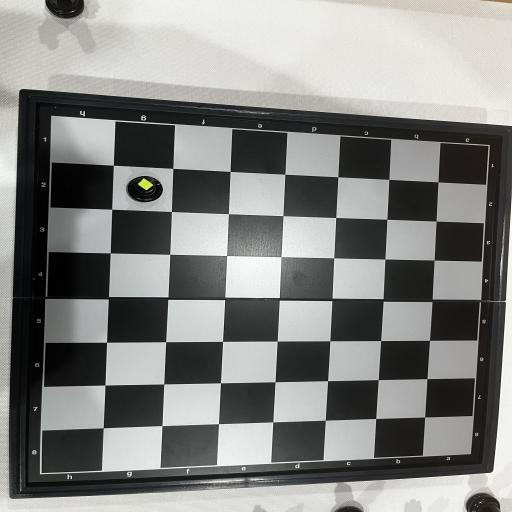Black pawn: (126, 176, 164, 202)
